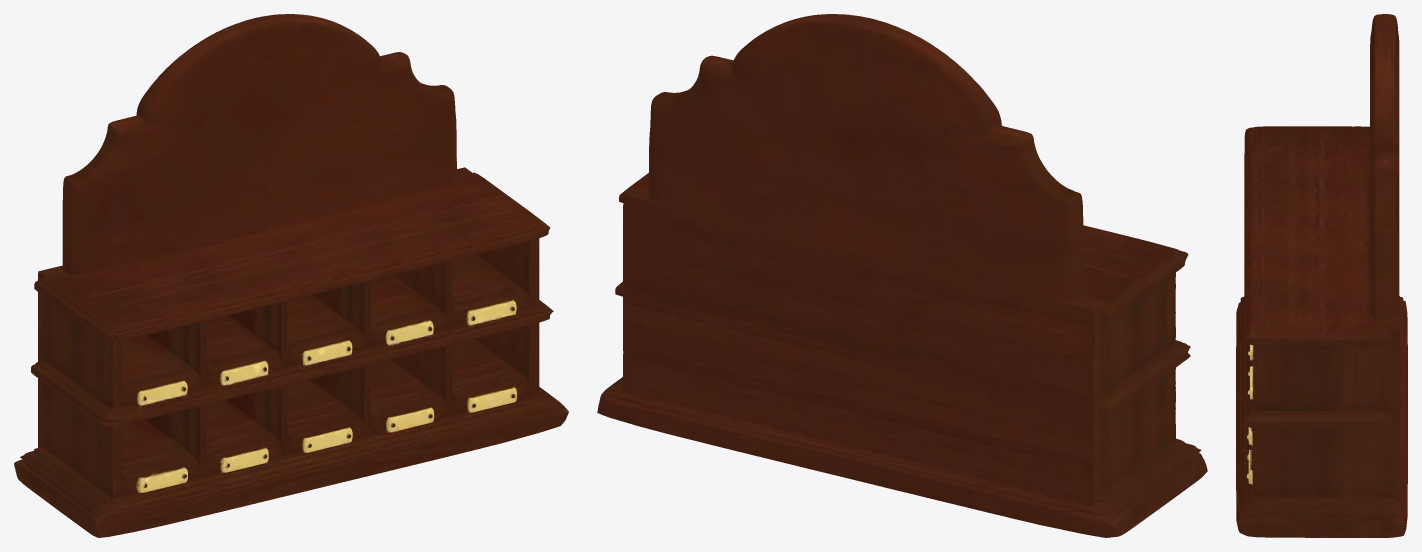
Rendered from trophy.glb.
The picture shows the model from 3 angles, left to right: view 1: azimuth 30°, elevation 25°; view 2: azimuth 150°, elevation 25°; view 3: azimuth 270°, elevation 25°; orthographic projection. The views are drawn at different scales.
Parts seen in each view (by area): view 1: Mesh_0; view 2: Mesh_0; view 3: Mesh_0.
Boxes of the visible parts, bbox=[...] form: Mesh_0: bbox=[14, 14, 568, 537]; Mesh_0: bbox=[597, 14, 1207, 537]; Mesh_0: bbox=[1236, 14, 1407, 537].
Size of the model in its own units: 1.81 by 1.5 by 0.5878.
1 material, 1 textured.
